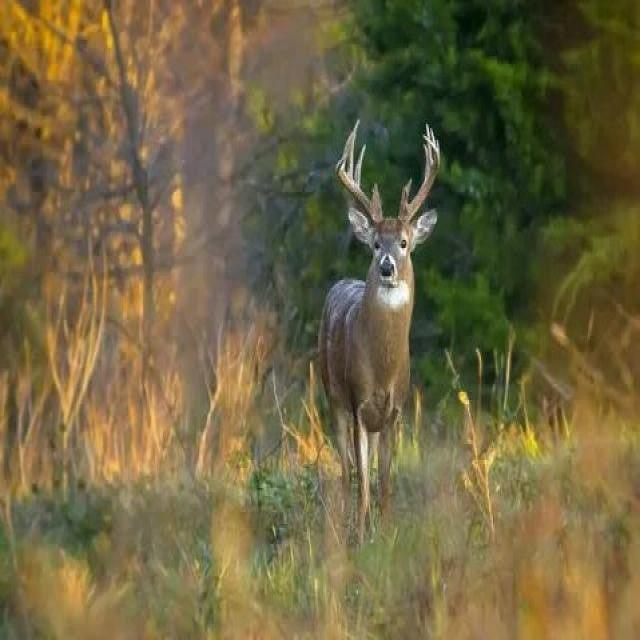deer: (273, 110, 505, 543)
